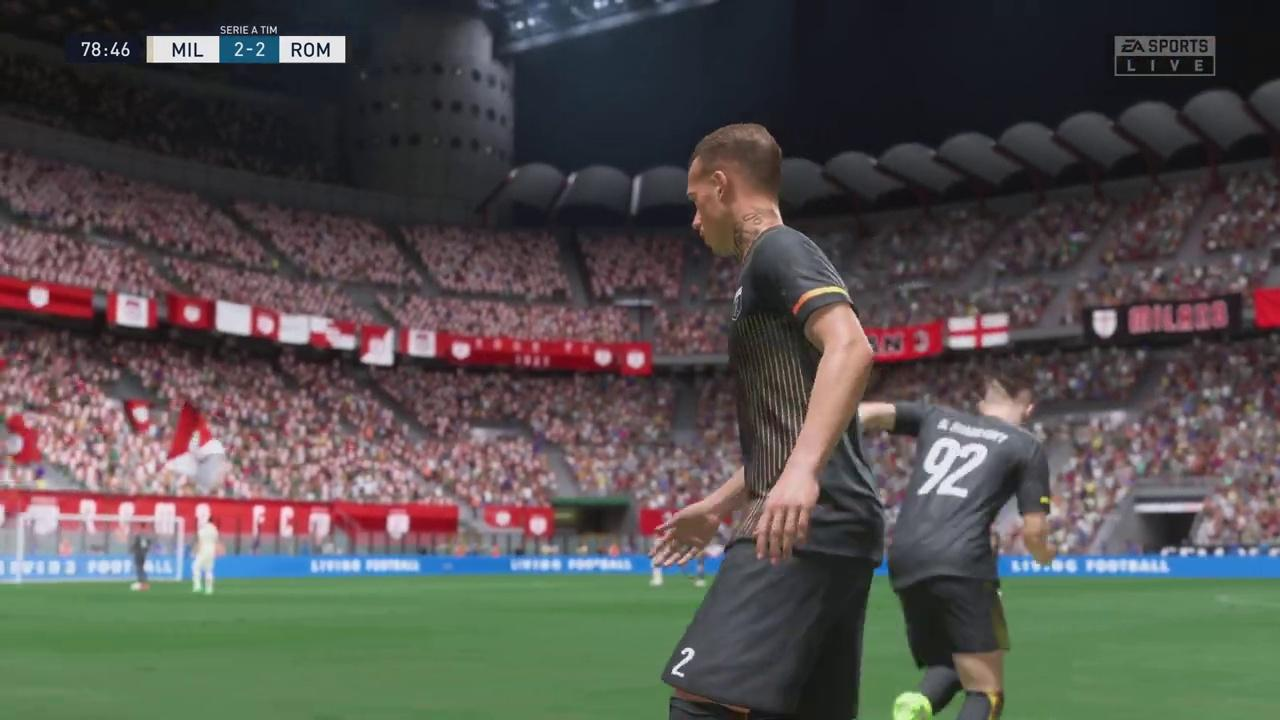scoreboard: (149, 33, 350, 66)
timestamp: (76, 35, 143, 66)
